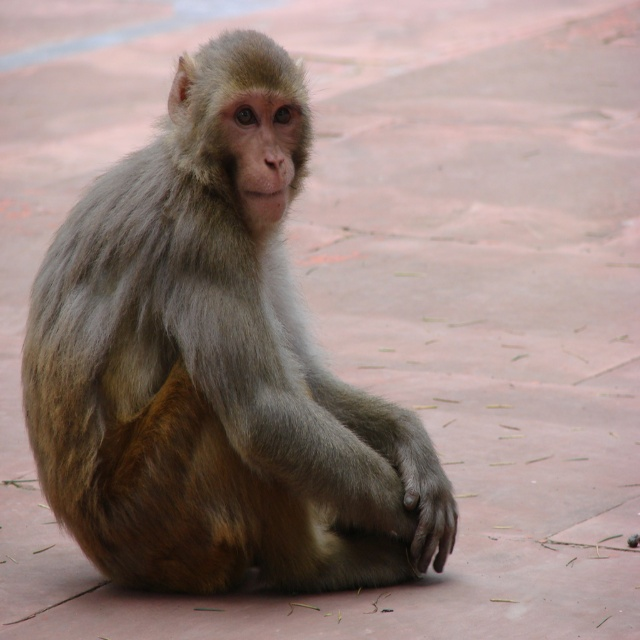Monkey: (23, 29, 458, 592)
